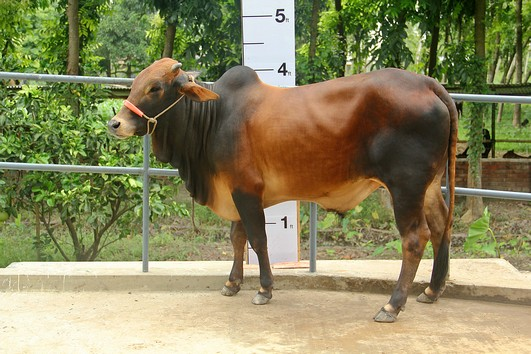cow: (105, 49, 466, 325)
